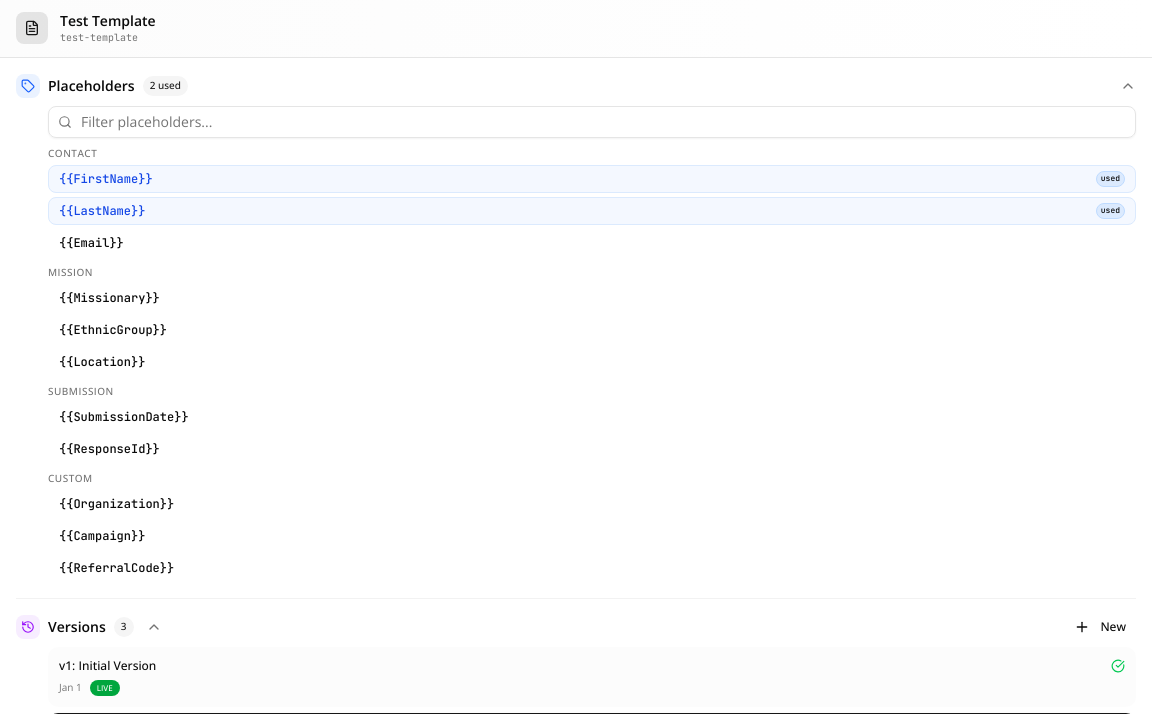
SidebarPanel › Placeholders Section › collapses and expands placeholders section
Click the button "Placeholders 2 used" at point(91, 85), box left=16, top=74, right=1136, bottom=98
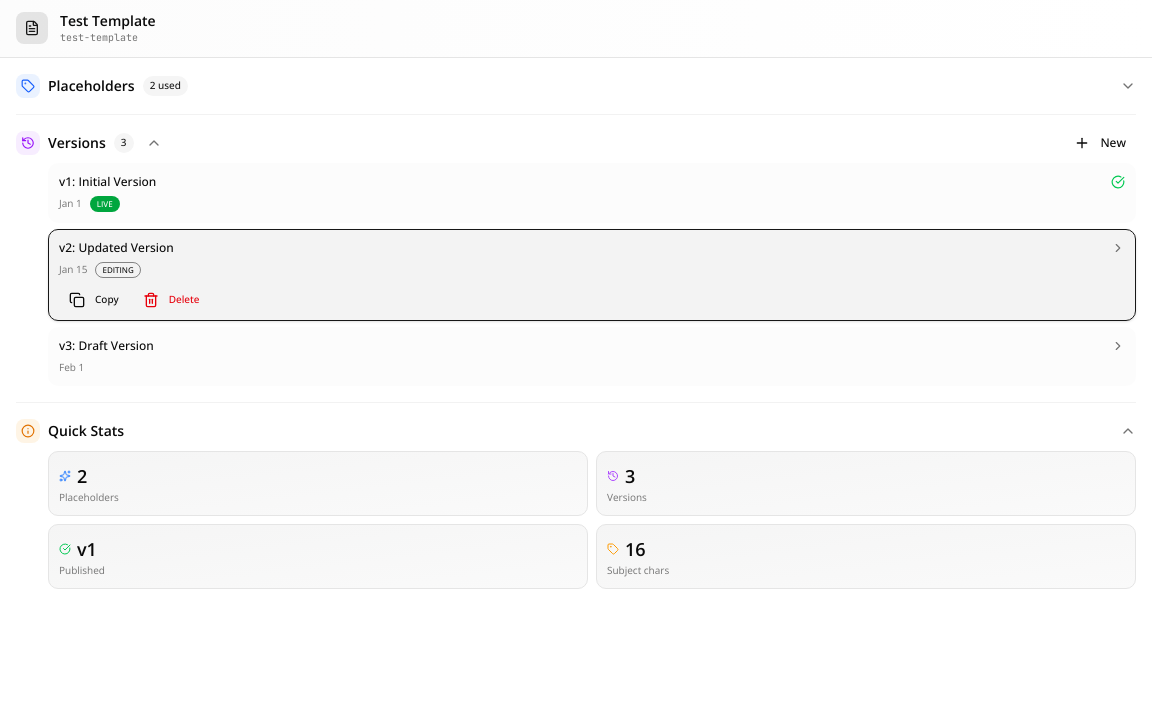
Expected: the field with placeholder "filter" is not shown
Click to expand again
Click the button "Placeholders 2 used" at point(91, 85), box left=16, top=74, right=1136, bottom=98
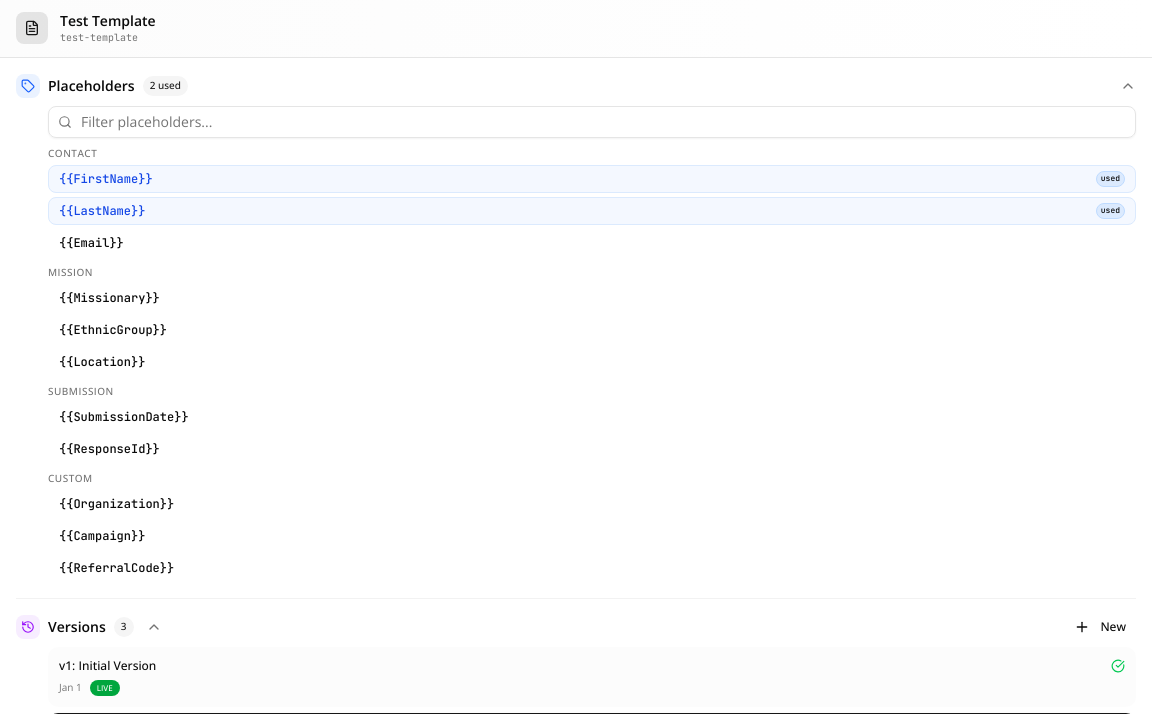
Expected: the field with placeholder "Filter placeholders..." is shown, left=48, top=106, right=1136, bottom=138
